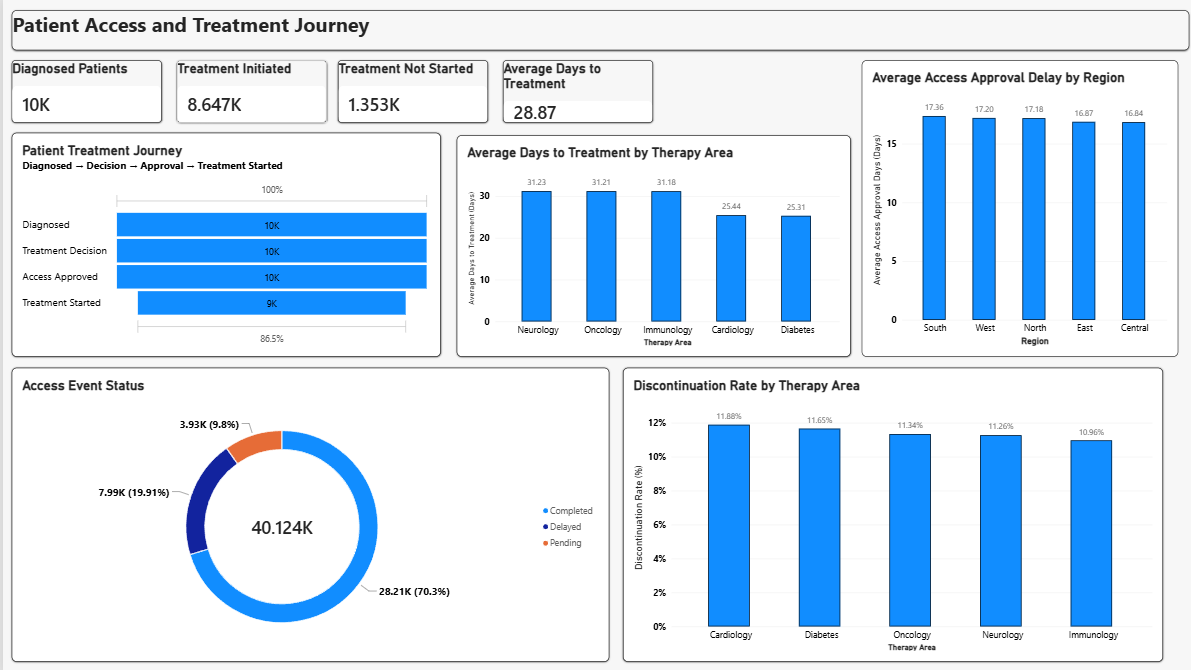

Layout of this report page (visuals, bound fields, positions):
{"tool":"powerbi","page":{"name":"Patient Access & Treatment Journey","canvas":[1920,1080],"ordinal":1},"visuals":[{"type":"cardVisual","title":"Diagnosed Patients","fields":{"Data":["Count(final_patient_analytics.patient_id)"]},"box":[14.5,97.7,180,100],"z":0},{"type":"cardVisual","title":"Treatment Initiated","fields":{"Data":["Count(final_patient_analytics.patient_id)"]},"box":[215.3,99.5,180,100],"z":1000},{"type":"cardVisual","title":"Treatment Not Started","fields":{"Data":["Count(final_patient_analytics.patient_id)"]},"box":[423.5,99.5,180,100],"z":2000},{"type":"cardVisual","title":"Average Days to Treatment","fields":{"Data":["final_patient_analytics.Average Days to Treatment"]},"box":[644.2,101.3,180,100],"z":3000},{"type":"funnel","title":"Patient Treatment Journey","fields":{"Category":["Journey_Stage.Stage"],"Y":["final_patient_analytics.Patient Journey Stage Count"]},"box":[14.5,226.2,613.5,313.1],"z":4000},{"type":"donutChart","title":"Access Event Status","fields":{"Category":["access_events.event_status"],"Y":["CountNonNull(access_events.event_id)"]},"box":[25.3,539.3,450.6,454.2],"z":5000},{"type":"clusteredColumnChart","title":"Treatment Initiation Rate by Insurance Type","fields":{"Category":["final_patient_analytics.insurance_type"],"Y":["final_patient_analytics.Treatment Initiation Rate"]},"box":[662.3,217.2,466.9,322.1],"z":6000},{"type":"clusteredColumnChart","title":"Average Days to Treatment by Therapy Area","fields":{"Category":["final_patient_analytics.therapy_area"],"Y":["final_patient_analytics.Average Days to Treatment"]},"box":[1129.2,217.2,629.8,322.1],"z":7000},{"type":"clusteredColumnChart","title":"Average Access Approval Delay by Region","fields":{"Category":["final_patient_analytics.region"],"Y":["final_patient_analytics.Average Access Approval Days"]},"box":[1442.3,571.9,456.4,421.8],"z":8000},{"type":"clusteredColumnChart","title":"Discontinuation Rate by Therapy Area","fields":{"Category":["final_patient_analytics.therapy_area"],"Y":["final_patient_analytics.Discontinuation Rate"]},"box":[1129.2,555.6,284.1,437.9],"z":9000},{"type":"clusteredColumnChart","title":"Discontinuation Rate by Therapy Area","fields":{"Category":["final_patient_analytics.therapy_area"],"Y":["final_patient_analytics.Discontinuation Rate"]},"box":[497.7,539.3,613.5,454.2],"z":10000},{"type":"textbox","box":[14.5,18.1,1883.9,63.3],"z":11000}]}

Visuals, with their boxes in screenshot pixels (x1, y1, x2, y2), scaled from the page's 1920x1080 canvas onto the 1191x670 screenshot:
"Diagnosed Patients" cardVisual: BBox(9, 61, 121, 123)
"Treatment Initiated" cardVisual: BBox(134, 62, 245, 124)
"Treatment Not Started" cardVisual: BBox(263, 62, 374, 124)
"Average Days to Treatment" cardVisual: BBox(400, 63, 511, 125)
"Patient Treatment Journey" funnel: BBox(9, 140, 390, 335)
"Access Event Status" donutChart: BBox(16, 335, 295, 616)
"Treatment Initiation Rate by Insurance Type" clusteredColumnChart: BBox(411, 135, 700, 335)
"Average Days to Treatment by Therapy Area" clusteredColumnChart: BBox(700, 135, 1091, 335)
"Average Access Approval Delay by Region" clusteredColumnChart: BBox(895, 355, 1178, 616)
"Discontinuation Rate by Therapy Area" clusteredColumnChart: BBox(700, 345, 877, 616)
"Discontinuation Rate by Therapy Area" clusteredColumnChart: BBox(309, 335, 689, 616)
textbox: BBox(9, 11, 1178, 50)
